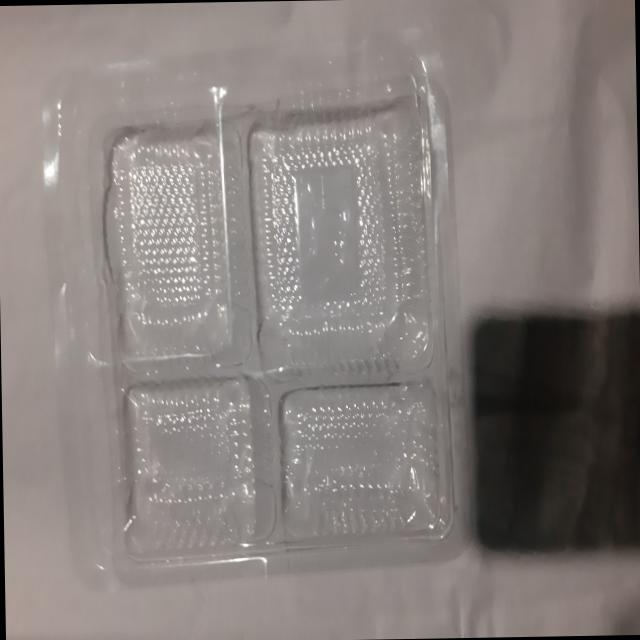KemasanPlastik: (59, 42, 458, 597)
